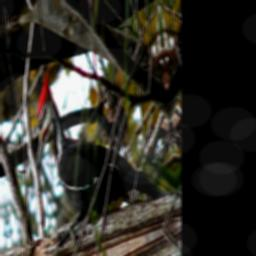Woodpecker: (27, 26, 166, 256)
